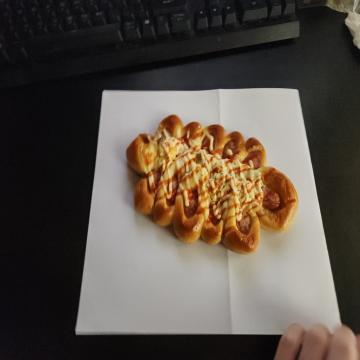pizza_bread: (126, 115, 299, 254)
